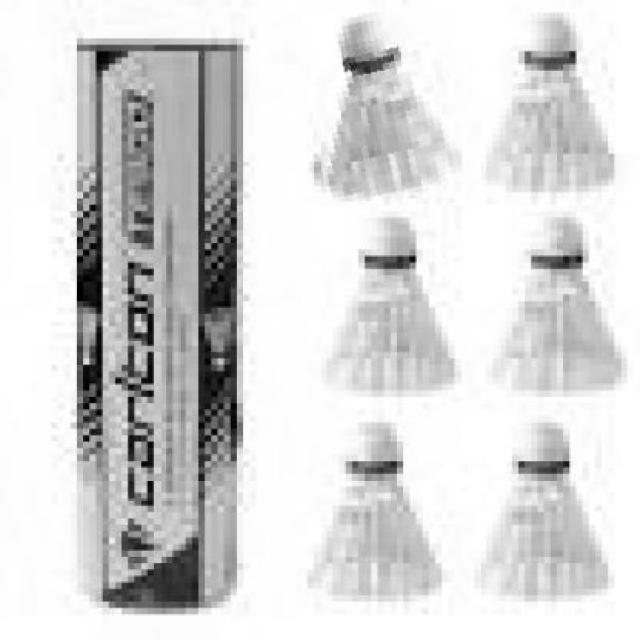Shuttlecock: (300, 3, 462, 202)
